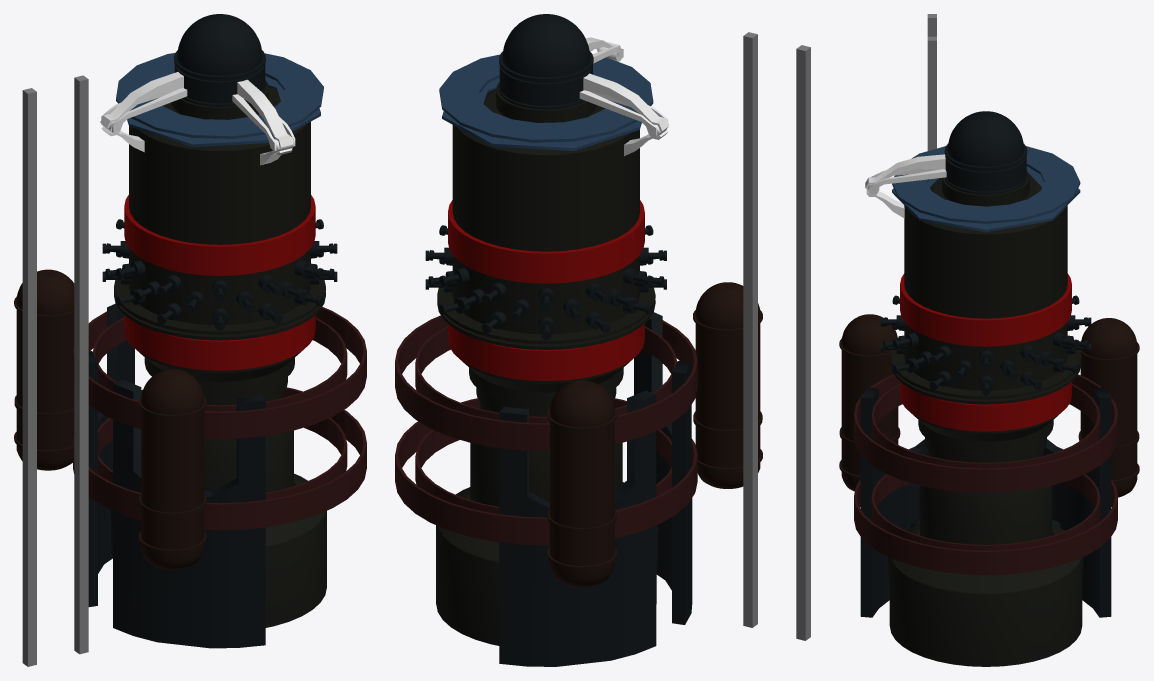
Rendered from Reactor.fbx.
3 views of the same model, side by side, from view 1: azimuth 30°, elevation 25°; view 2: azimuth 150°, elevation 25°; view 3: azimuth 270°, elevation 25° (orthographic). The views are drawn at different scales.
Parts seen in each view (by area): view 1: Reactor, ReactorPlaca002, ReactorTanque, PilarAltoInterior, PilarAltoExterior, ReactorTanque005, ReactorRingExt, ReactorRingExt002, Tube002, ReactorTanqueCentro, ReactorRing002, ReactorRing003 (+6 smaller); view 2: Reactor, ReactorPlaca001, ReactorTanque005, ReactorTanque, ReactorRingExt, PilarAltoInterior, PilarAltoExterior, ReactorRingExt002, Tube002, ReactorTanqueCentro, ReactorPlaca002, ReactorRing002 (+5 smaller); view 3: Reactor, ReactorRingExt, ReactorRingExt002, ReactorTanque005, ReactorTanqueCentro, ReactorTanque, Tube002, ReactorRing002, ReactorPlaca001, ReactorPlaca002, ReactorRing003, ReactorRingInt (+4 smaller).
Part boxes in pixels (x1,y1,x2,y2): Reactor: (114, 80, 326, 627); ReactorPlaca002: (113, 380, 265, 648); ReactorTanque: (138, 369, 206, 569); PilarAltoInterior: (74, 75, 88, 654); PilarAltoExterior: (22, 88, 36, 666); ReactorTanque005: (14, 269, 74, 470); ReactorRingExt: (73, 307, 366, 438); ReactorRingExt002: (73, 387, 366, 530); Tube002: (116, 53, 323, 138); ReactorTanqueCentro: (174, 14, 265, 106); ReactorRing002: (124, 195, 315, 275); ReactorRing003: (124, 315, 315, 370); Reactor: (436, 82, 656, 645); ReactorPlaca001: (499, 390, 656, 666); ReactorTanque005: (547, 380, 617, 587); ReactorTanque: (693, 282, 762, 488); ReactorRingExt: (395, 315, 697, 451); PilarAltoInterior: (743, 32, 757, 627); PilarAltoExterior: (796, 45, 810, 640); ReactorRingExt002: (395, 398, 697, 545); Tube002: (439, 54, 653, 142); ReactorTanqueCentro: (499, 14, 593, 109); ReactorPlaca002: (634, 312, 692, 624); ReactorRing002: (448, 200, 644, 283); Reactor: (889, 170, 1082, 666); ReactorRingExt: (854, 374, 1117, 492); ReactorRingExt002: (854, 479, 1117, 575); ReactorTanque005: (1078, 318, 1139, 497); ReactorTanqueCentro: (944, 111, 1027, 194); ReactorTanque: (839, 314, 900, 491); Tube002: (892, 146, 1080, 223); ReactorRing002: (900, 273, 1071, 346); ReactorPlaca001: (1043, 387, 1111, 617); ReactorPlaca002: (860, 387, 928, 617); ReactorRing003: (900, 381, 1071, 431); ReactorRingInt: (871, 384, 1100, 468).
Bounding box in the file's own units: 1176 × 1831 × 968.
